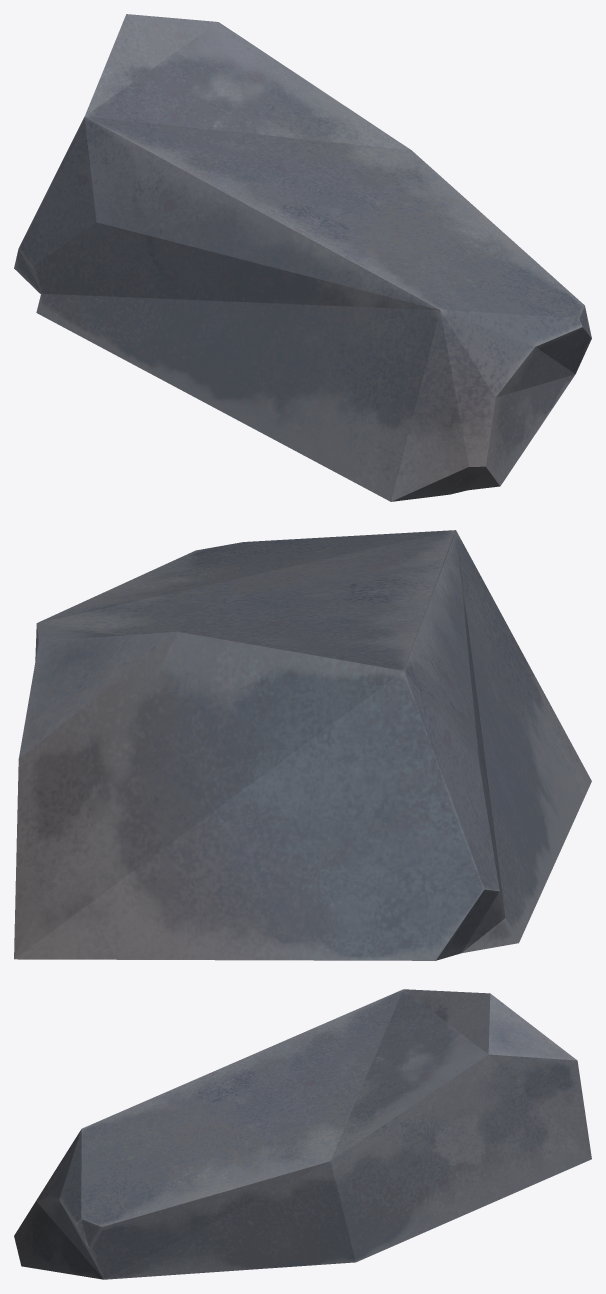
File: stylized_rock_15.fbx
3 renders of one model, top to bottom at view 1: azimuth 30°, elevation 25°; view 2: azimuth 150°, elevation 25°; view 3: azimuth 270°, elevation 25°, orthographic. The views are drawn at different scales.
Parts seen in each view (by area): view 1: stylized_rock_15; view 2: stylized_rock_15; view 3: stylized_rock_15.
Boxes of the visible parts, <box> form: stylized_rock_15: <box>14,14,591,501</box>; stylized_rock_15: <box>14,530,591,960</box>; stylized_rock_15: <box>14,989,591,1279</box>.
Bounding box in the file's own units: 74.66 × 55.03 × 119.
